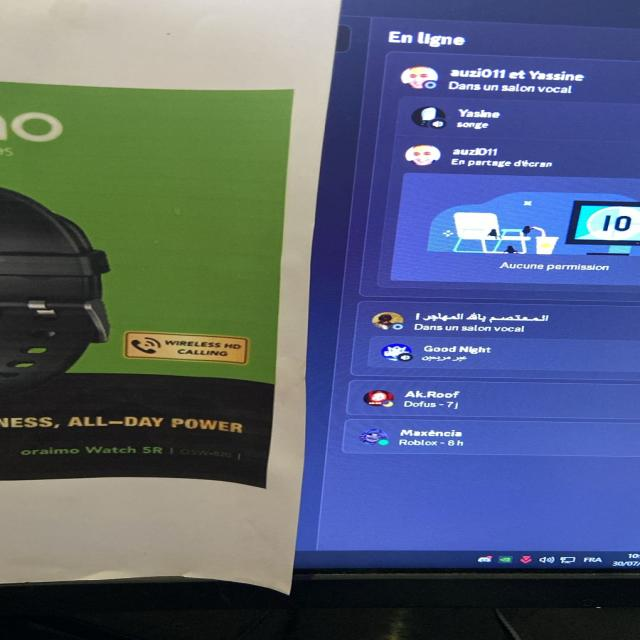Oraimo Watch 5R OSW-820: (16, 446, 247, 463)
